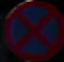No Stopping: (4, 1, 61, 57)
